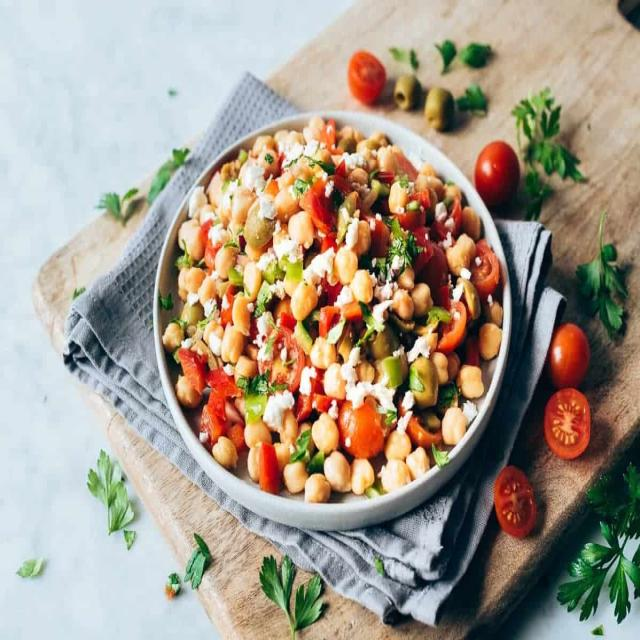garbanzos: (158, 108, 508, 529)
